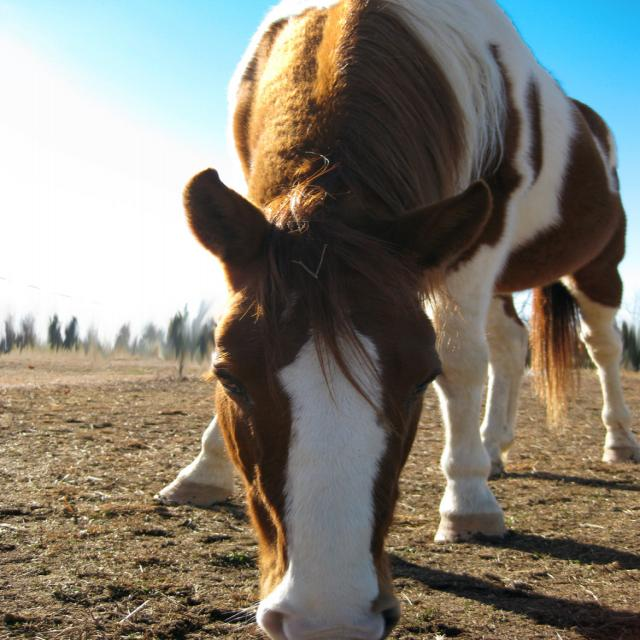Horse: (152, 0, 640, 640)
